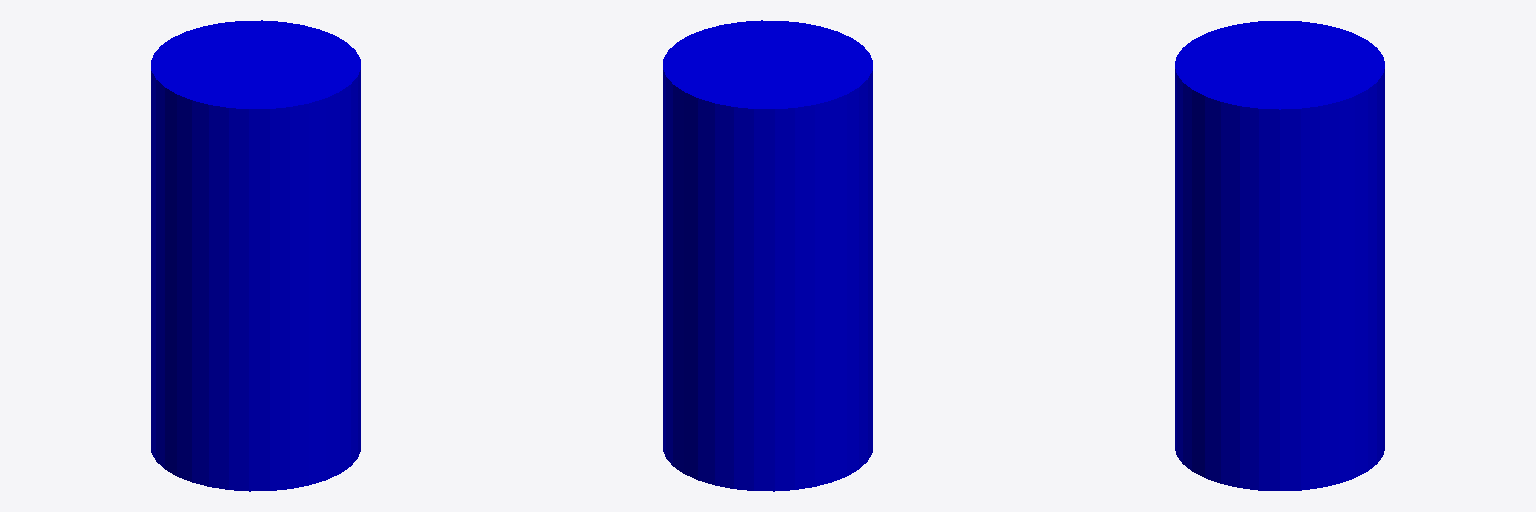
URDF robot description (simplegoal):
<?xml version="1.0"?> 
<robot name="simplegoal">
    <!-- Colors --> 
    <material name="blue">
        <color rgba="0 0 0.925 1"/>
    </material>

    <!-- Goal -->
    <link name="base_link">
        <visual>
            <geometry>
                <cylinder radius="0.25" length="1"/>
                <origin rpy="0 0 0" xyz="0 0 0.5"/>
            </geometry>
            <material name="blue"/>
        </visual>
        <!-- <collision> 
             <geometry> 
                <cylinder radius="0.25" length="0.5"/>
                <origin rpy="0 0 0" xyz="0 0 0.25"/>
            </geometry>
        </collision> --> 
        <inertial> 
            <mass value="0"/>
            <inertia ixx="0" ixy="0" ixz="0" iyy="0" iyz="0" izz="0"/>
        </inertial> 
    </link>
</robot>

--- Facts derived from the render (not from the file) ---
The picture shows the robot from 3 angles, left to right: view 1: azimuth 30°, elevation 25°; view 2: azimuth 150°, elevation 25°; view 3: azimuth 270°, elevation 25°; orthographic projection.
Robot: simplegoal — 1 links, 0 joints (none); root link base_link; default pose: all joints at 0.
Links seen in each view (by area): view 1: base_link; view 2: base_link; view 3: base_link.
Link boxes in pixels (box(x1,y1,x2,y2)): base_link: box(151, 20, 360, 491); base_link: box(663, 20, 872, 491); base_link: box(1175, 21, 1384, 490).
Bounding box of the posed robot: 0.5 × 0.5 × 1 m (x, y, z).
Geometry: primitives only (box / cylinder / sphere), no mesh files.